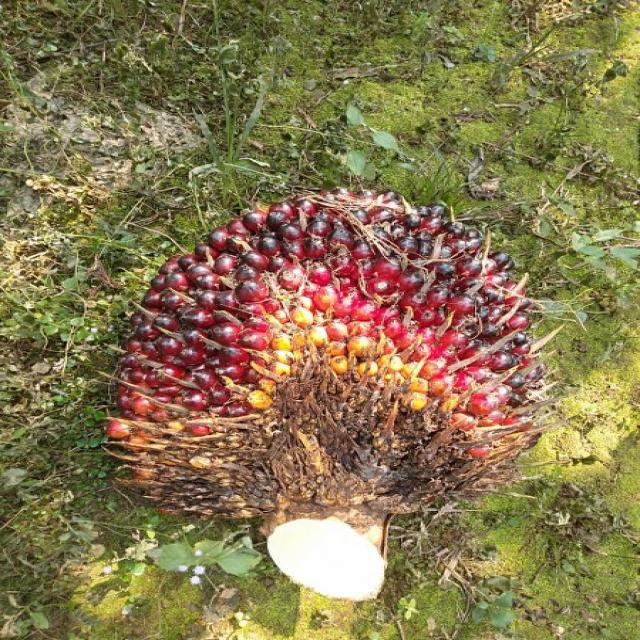fraksi 1: (85, 146, 581, 596)
